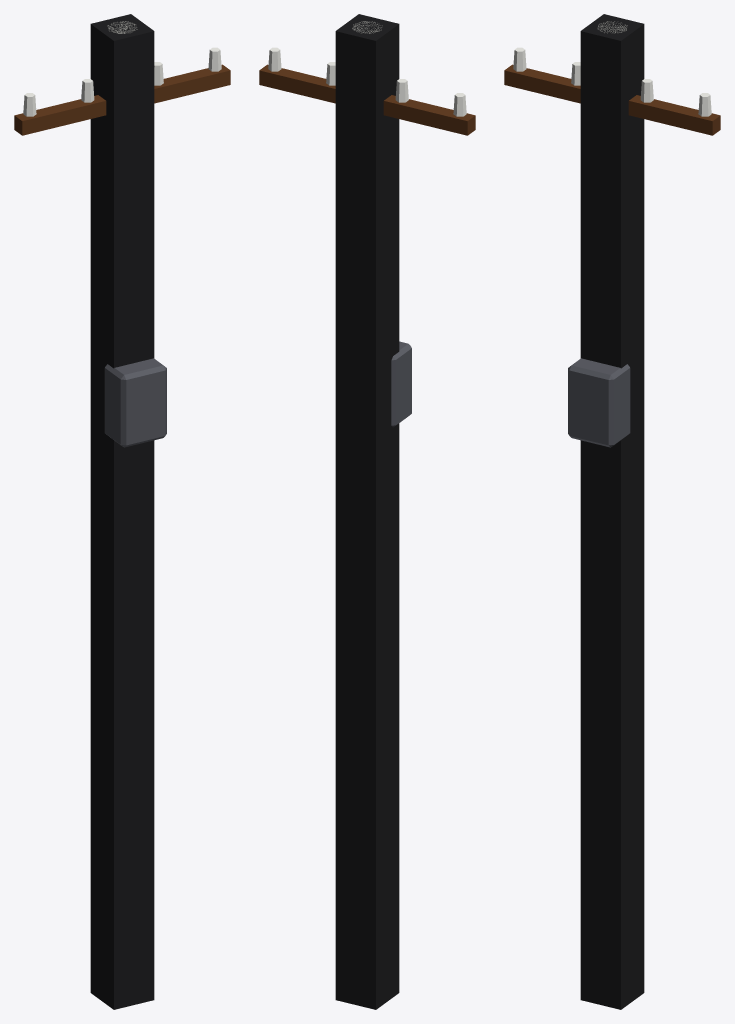
Rendered from env_wire_pole.fbx.
3 views of the same model, side by side, from view 1: azimuth 30°, elevation 25°; view 2: azimuth 150°, elevation 25°; view 3: azimuth 330°, elevation 25° (orthographic).
Visible parts, largest first — view 1: COL_env_wire_pole, env_wire_pole_geo; view 2: COL_env_wire_pole, env_wire_pole_geo; view 3: COL_env_wire_pole, env_wire_pole_geo.
Boxes of the visible parts, <box> form: COL_env_wire_pole: <box>90,14,154,1009</box>; env_wire_pole_geo: <box>14,21,230,447</box>; COL_env_wire_pole: <box>335,14,399,1009</box>; env_wire_pole_geo: <box>259,21,475,427</box>; COL_env_wire_pole: <box>580,14,644,1009</box>; env_wire_pole_geo: <box>504,21,720,447</box>.
Size of the model in its own units: 1.8 by 8 by 0.525.
